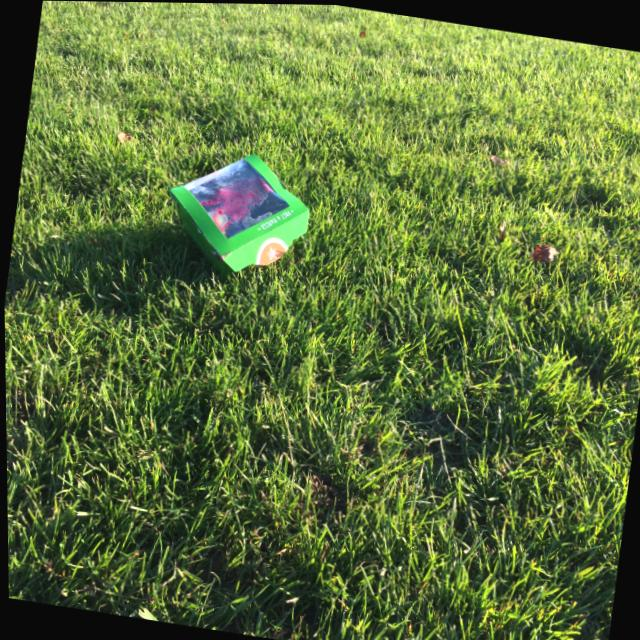Paper: (151, 130, 329, 295)
